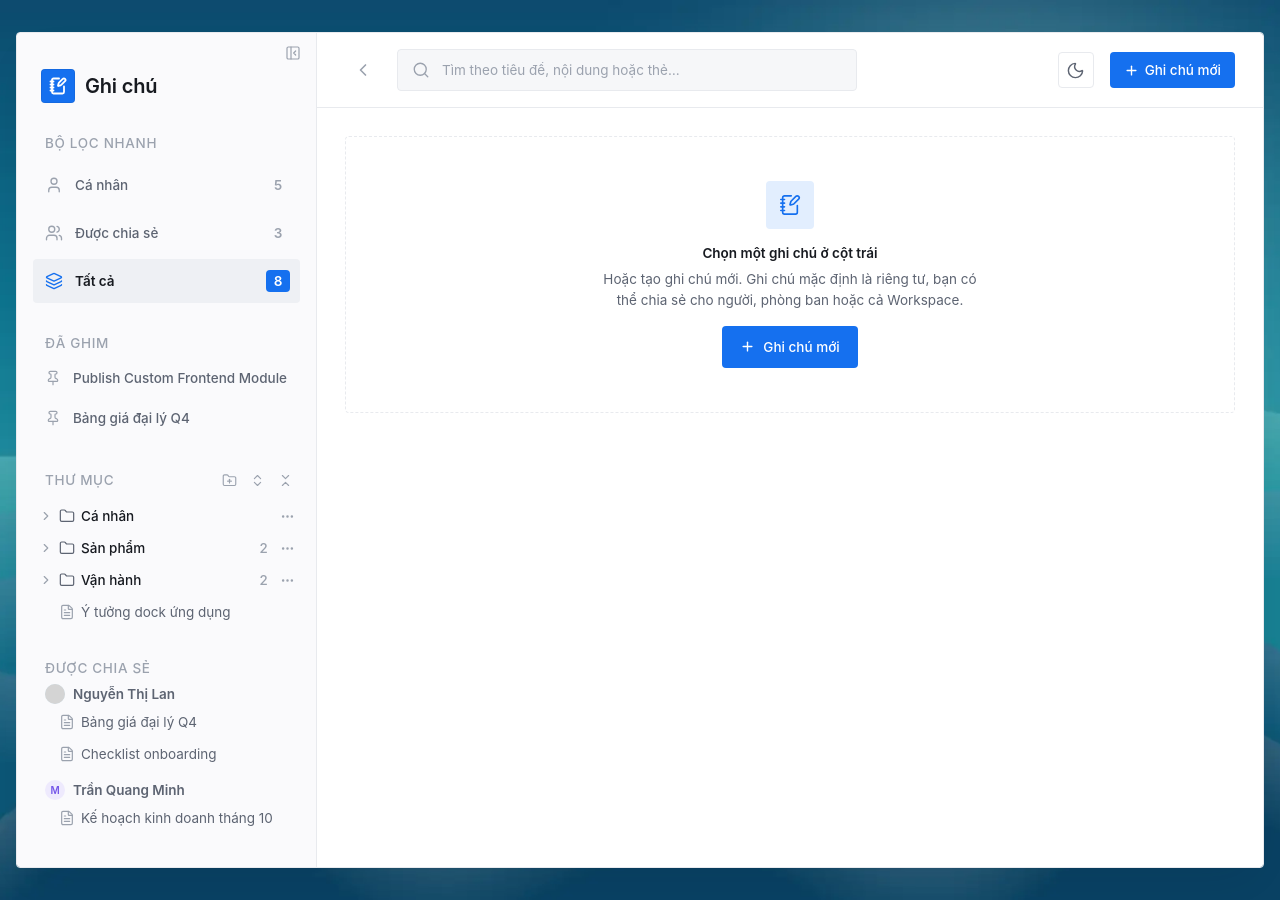
it: NotesApp — lists › search (no accents) keeps matching notes and their folders, marks the match; a folder name keeps its notes
Type "giao ban" into the search field with test id "notes-search" at (641, 70), box top-left (440, 50), bottom-right (842, 90)
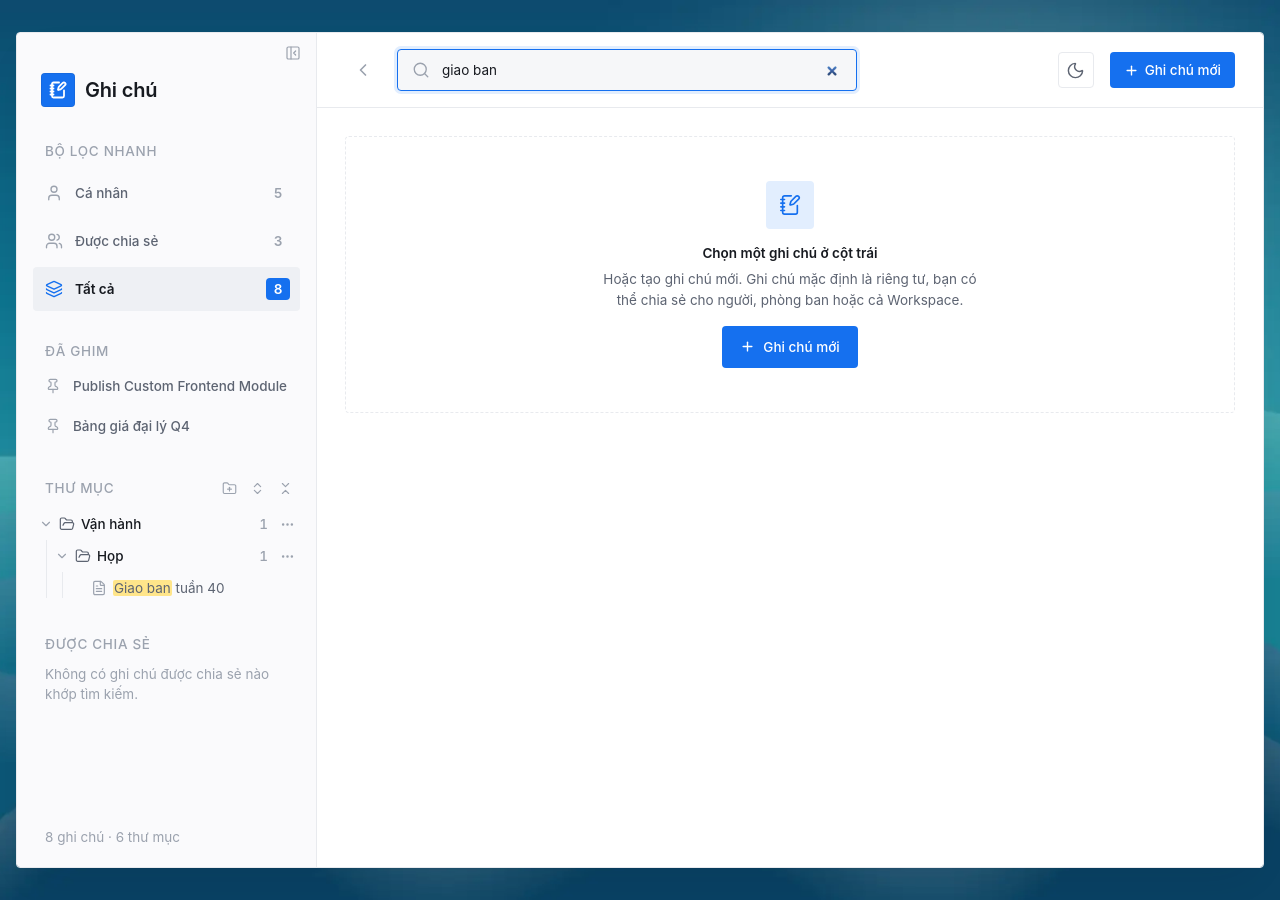
Check: the text "Giao ban" is shown, box top-left (113, 580), bottom-right (172, 596)
Check: the text "Không có ghi chú được chia sẻ nào khớp tìm kiếm." is shown, box top-left (45, 666), bottom-right (269, 702)
Replace the text in the search field with test id "notes-search" with "frontend" at (641, 70), box top-left (440, 50), bottom-right (842, 90)
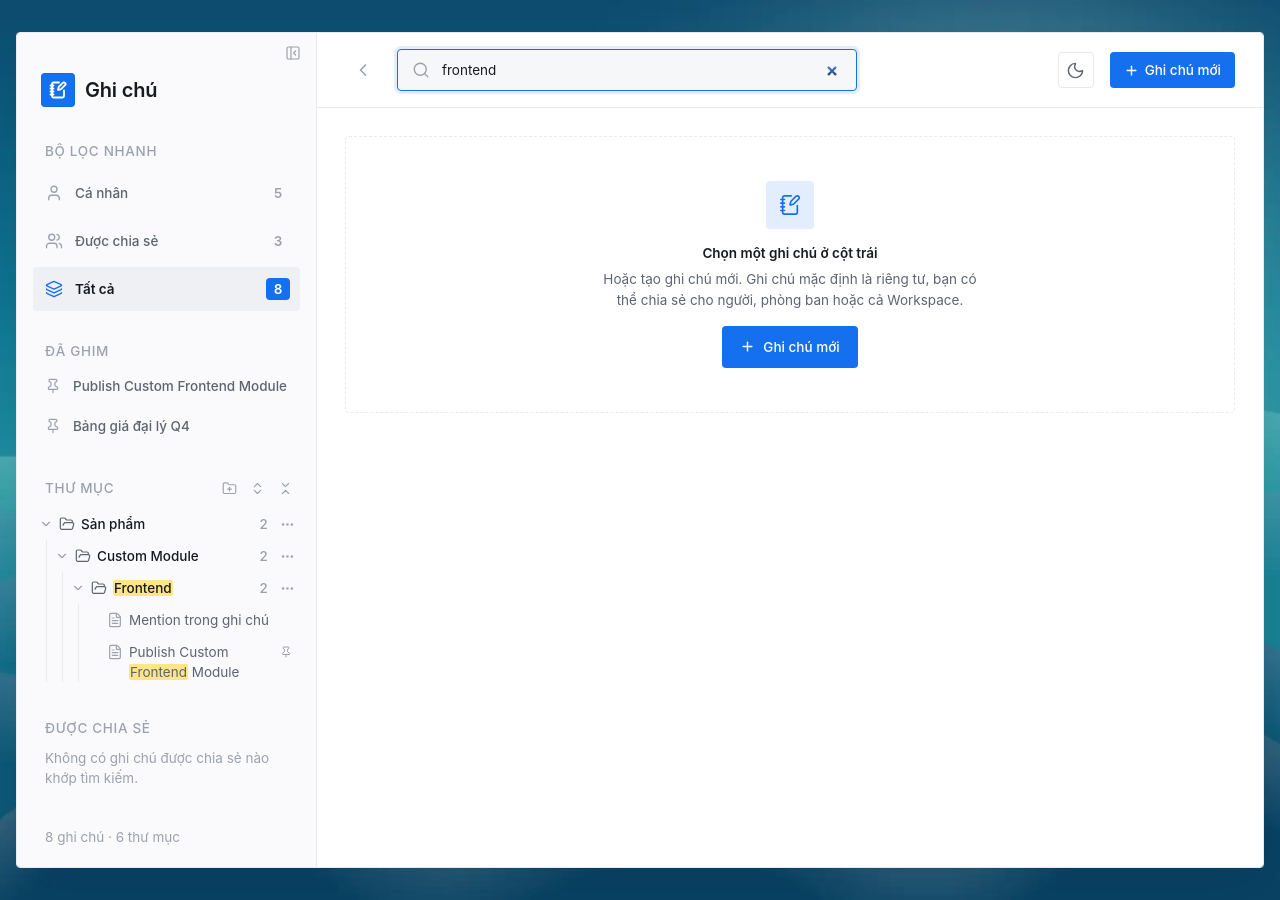
Replace the text in the search field with test id "notes-search" with "zzz" at (641, 70), box top-left (440, 50), bottom-right (842, 90)
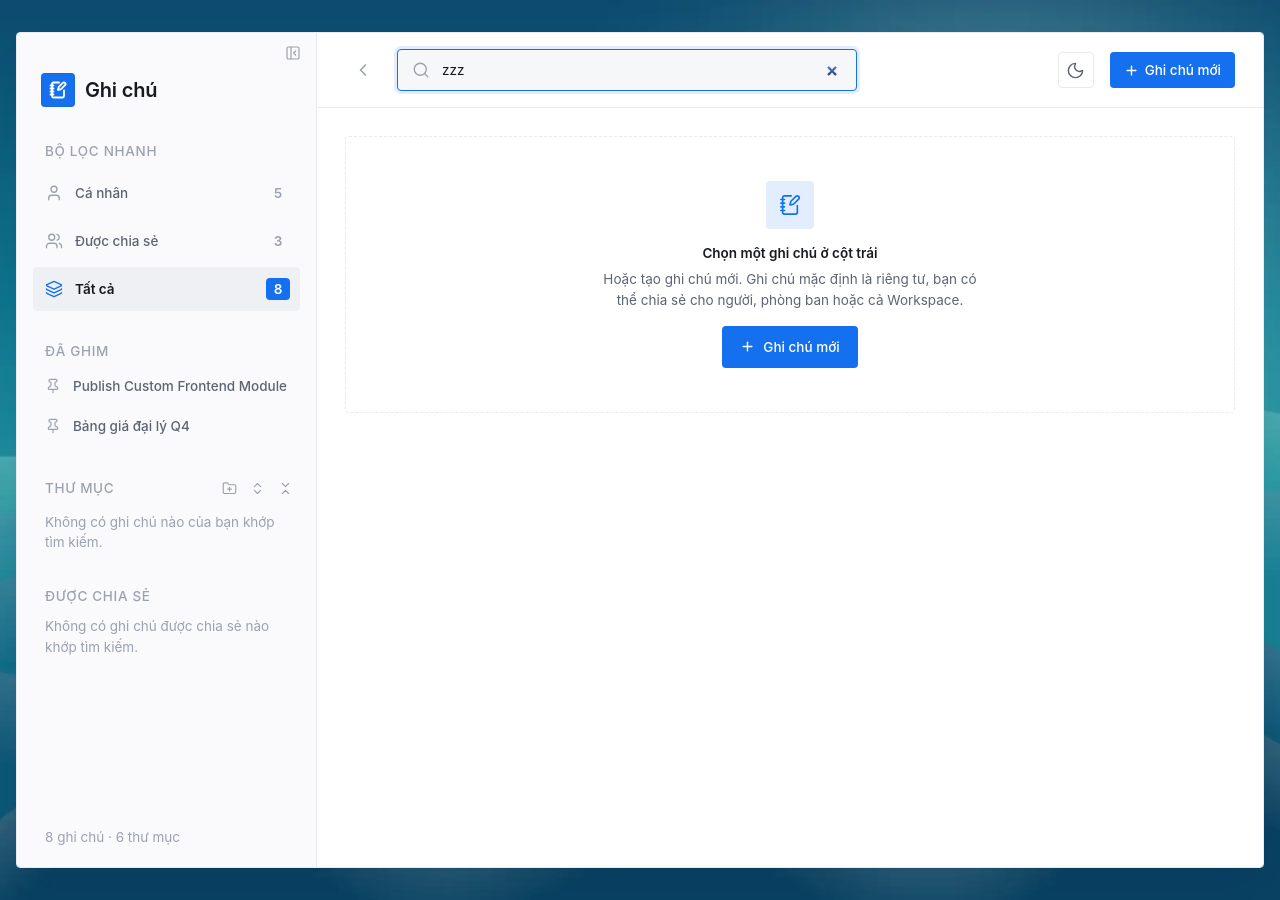
Check: the text with test id "tree-empty" reads "Không có ghi chú nào của bạn khớp tìm kiếm.", box top-left (45, 514), bottom-right (275, 550)
